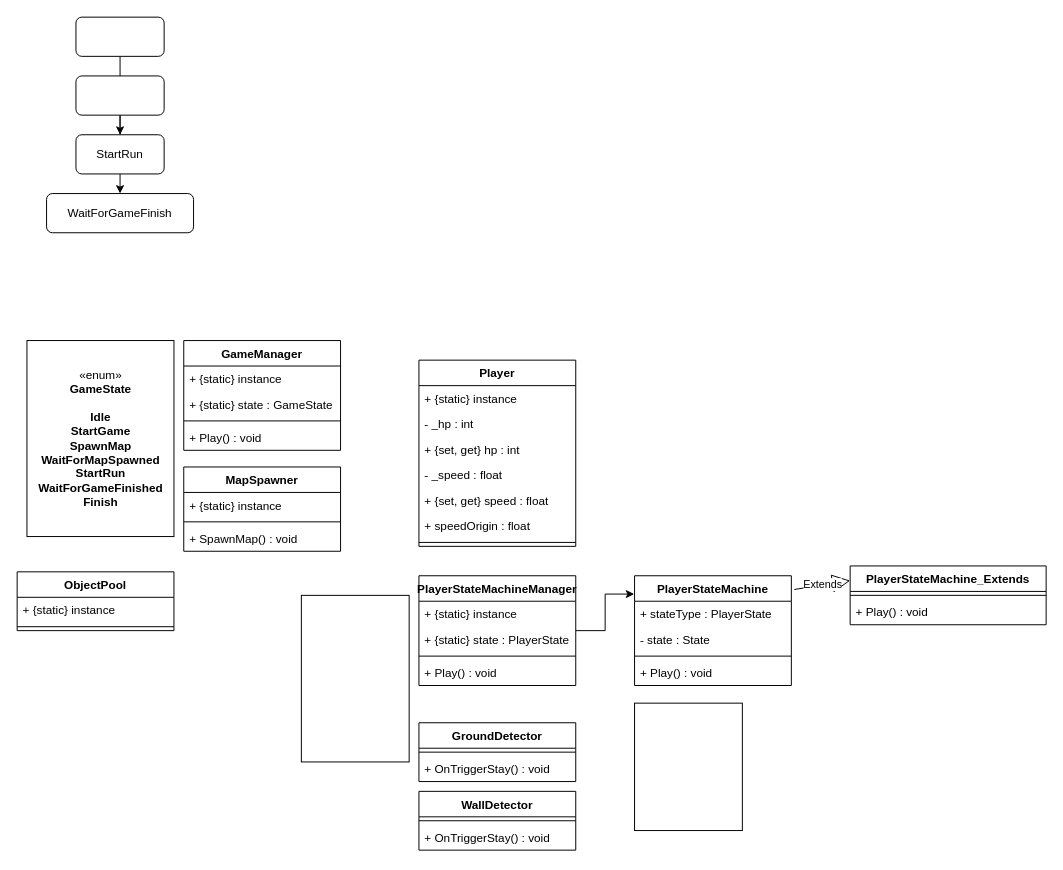
Image size: 1063x870. Some labels were removed from this diagram. Each missing label, with the centre of its shape:
SpawnMap: the point at 119,95
Start: the point at 119,36
«enum» PlayerState Idle Run Jump Roll WallRun Attack Hurt Die: the point at 354,678
«enum» State Idle Prepare Casting OnAction Finish: the point at 688,766
